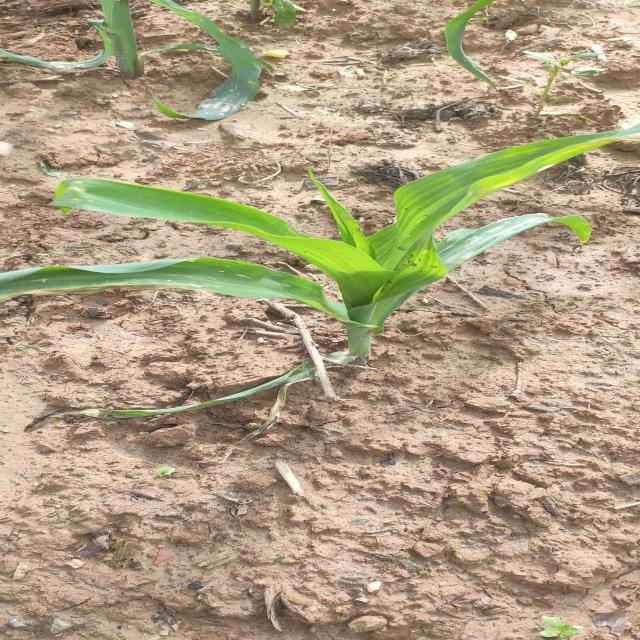maize: (97, 165, 640, 368), (28, 0, 326, 104)
